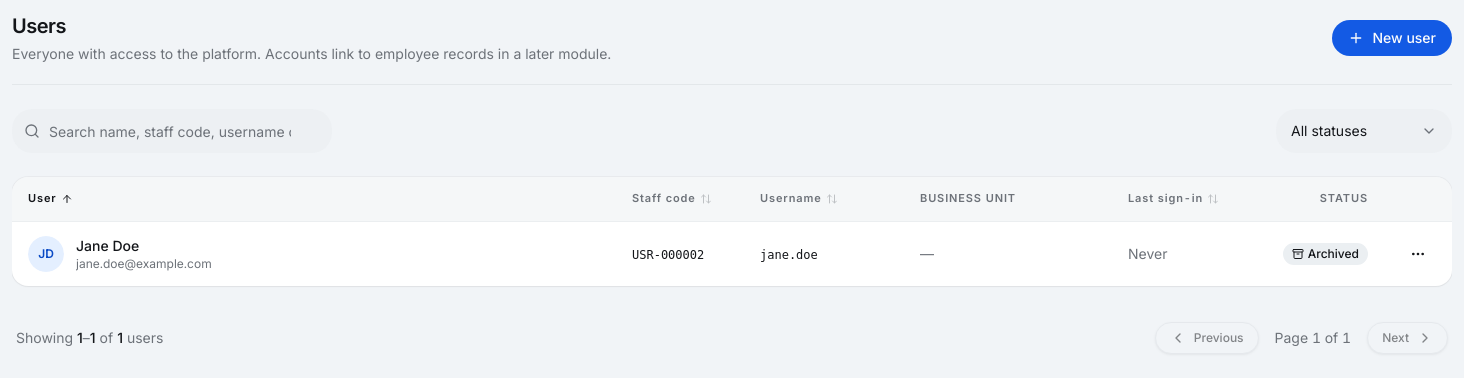
Test: UserListPage › offers only restore for an archived user
The image size is (1464, 378).
Click the button named "actions for jane doe".
click(1418, 254)  # box top-left (1400, 236), bottom-right (1436, 272)
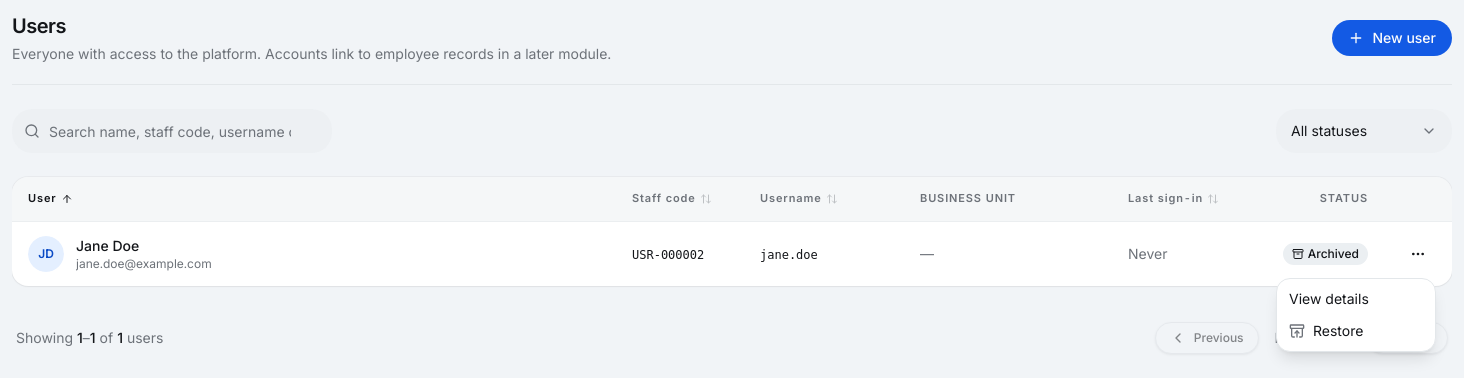
Now the menu item "Restore" is shown, box top-left (1289, 322), bottom-right (1363, 339)
